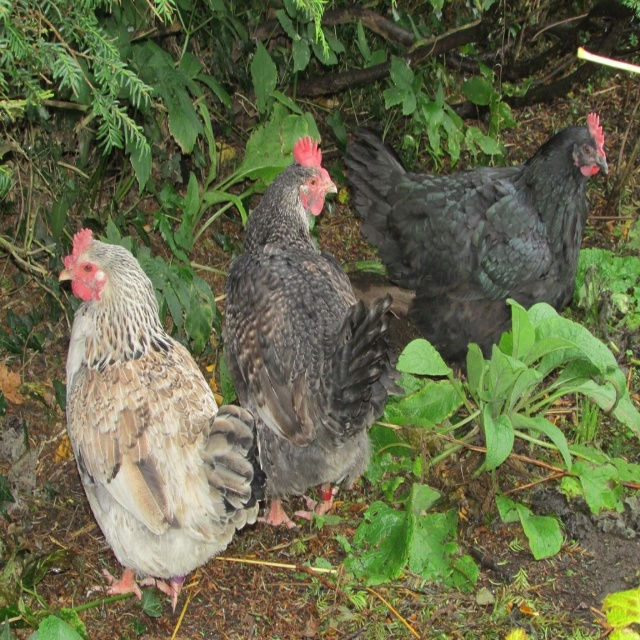Chicken: (55, 220, 269, 611), (340, 111, 612, 380), (221, 136, 406, 529)
